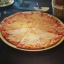pizza: (1, 10, 58, 48)
